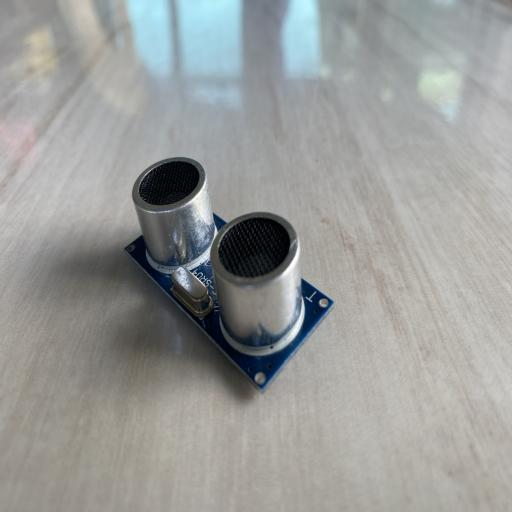Ultrasonic Sensor: (123, 156, 335, 395)
